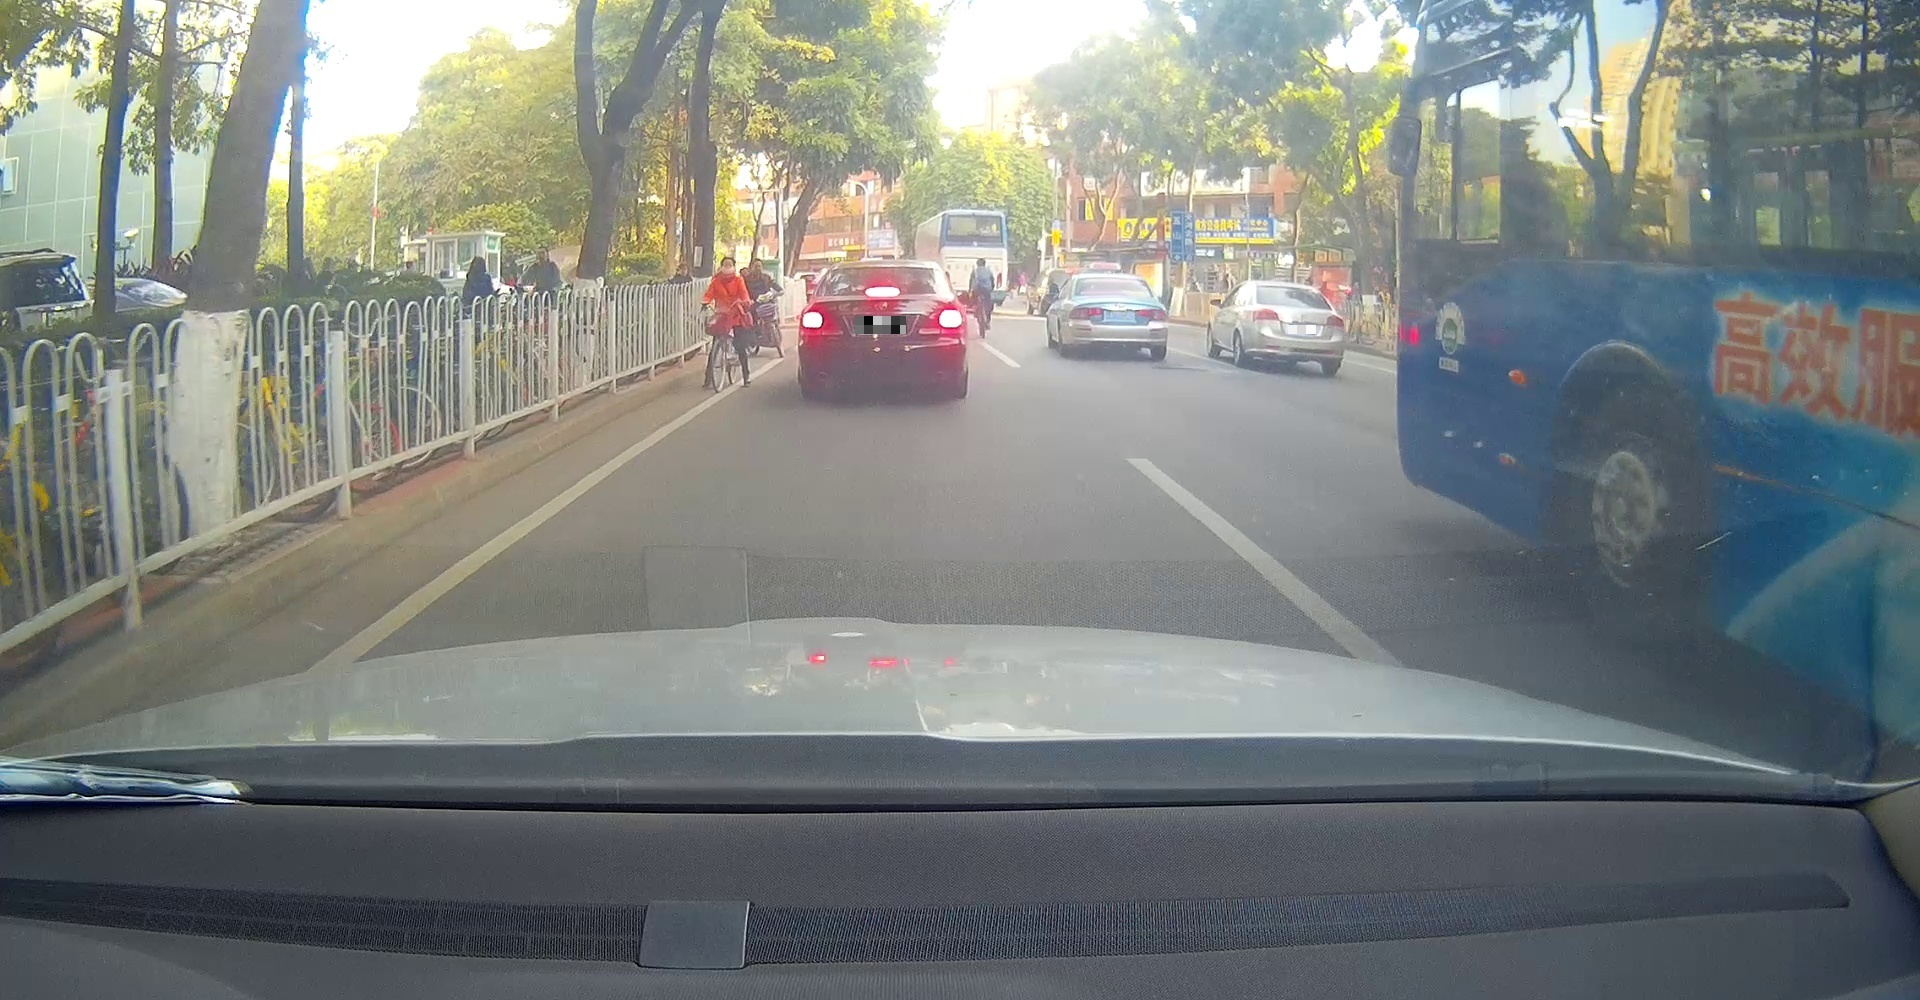L_light: (799, 303, 841, 334), (1069, 307, 1102, 320), (1252, 308, 1280, 322)
R_light: (918, 305, 966, 335), (1137, 308, 1167, 321), (1324, 313, 1343, 327)
T_light: (863, 286, 900, 297), (1284, 288, 1299, 293), (1103, 278, 1117, 282)
day-brake: (797, 259, 968, 398)
day-no: (1247, 280, 1345, 376), (1067, 272, 1168, 358)
plate_1: (855, 316, 905, 334)
plate_2: (1288, 325, 1316, 334)
